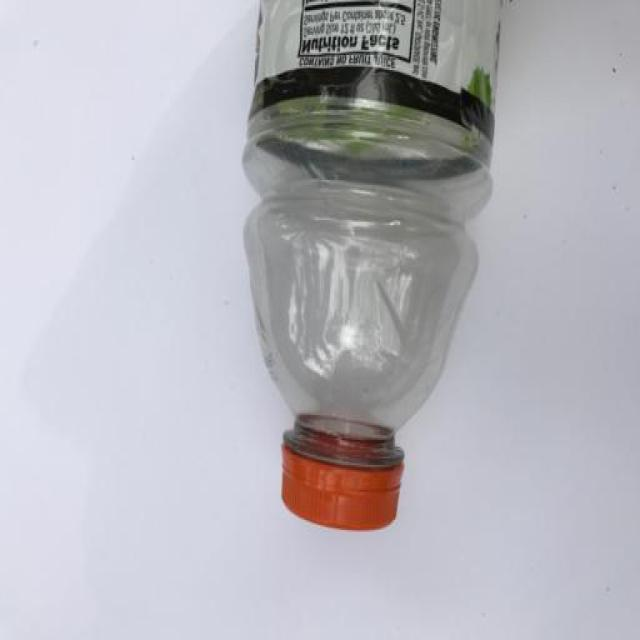Plastic: (241, 0, 502, 530)
